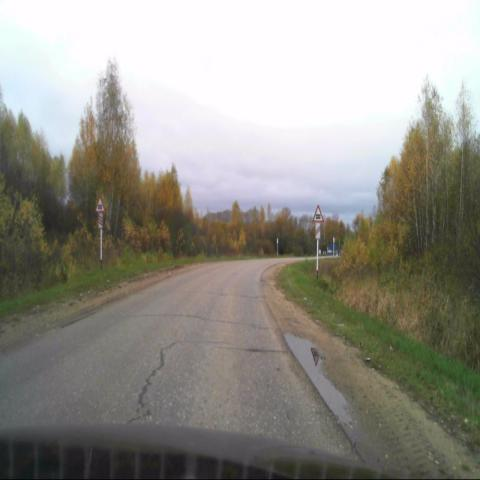1_1: (312, 205, 324, 223)
